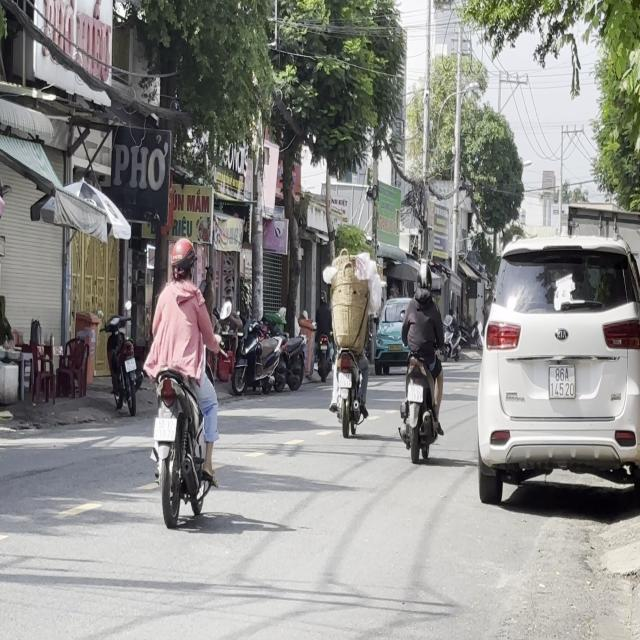helmet: (169, 236, 196, 282), (415, 264, 432, 298)
licenseplate: (143, 234, 222, 526), (397, 263, 446, 461), (326, 243, 375, 437)
nohelmet: (154, 416, 176, 441), (407, 383, 423, 402)
